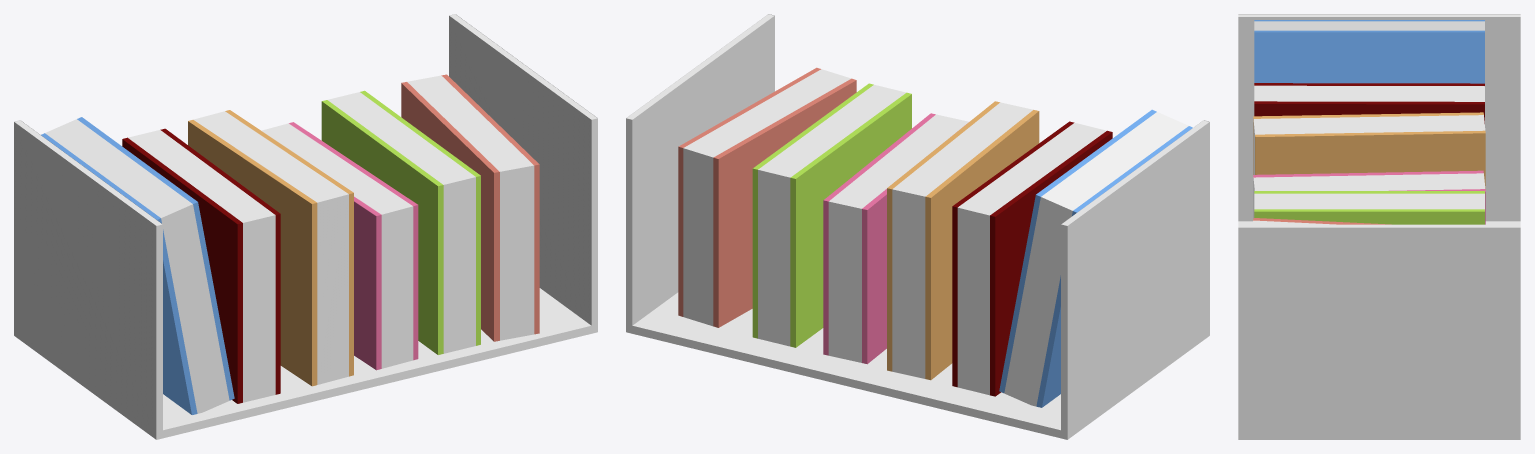
File: Bücher.fbx
3 renders of one model, left to right at view 1: azimuth 30°, elevation 25°; view 2: azimuth 150°, elevation 25°; view 3: azimuth 270°, elevation 25°, orthographic.
Parts seen in each view (by area): view 1: Würfel, Würfel_3, Würfel_5, Würfel_2, Würfel_6, Würfel_1, Würfel_4; view 2: Würfel, Würfel_5, Würfel_6, Würfel_3, Würfel_2, Würfel_1, Würfel_4; view 3: Würfel, Würfel_1, Würfel_3, Würfel_5, Würfel_2, Würfel_4, Würfel_6.
Boxes of the visible parts, bbox=[...] form: Würfel: bbox=[14, 14, 597, 439]; Würfel_3: bbox=[188, 110, 353, 386]; Würfel_5: bbox=[321, 90, 480, 354]; Würfel_2: bbox=[122, 128, 280, 403]; Würfel_6: bbox=[401, 74, 539, 341]; Würfel_1: bbox=[41, 117, 234, 414]; Würfel_4: bbox=[261, 122, 418, 370]; Würfel: bbox=[626, 14, 1209, 439]; Würfel_5: bbox=[752, 83, 911, 347]; Würfel_6: bbox=[678, 67, 856, 327]; Würfel_3: bbox=[887, 101, 1039, 380]; Würfel_2: bbox=[952, 121, 1112, 396]; Würfel_1: bbox=[999, 109, 1192, 407]; Würfel_4: bbox=[823, 113, 969, 364]; Würfel: bbox=[1238, 14, 1520, 439]; Würfel_1: bbox=[1254, 20, 1484, 83]; Würfel_3: bbox=[1253, 112, 1485, 188]; Würfel_5: bbox=[1254, 191, 1484, 224]; Würfel_2: bbox=[1254, 83, 1484, 123]; Würfel_4: bbox=[1253, 170, 1485, 224]; Würfel_6: bbox=[1252, 218, 1391, 224].
Size of the model in its own units: 206 by 98.06 by 115.
